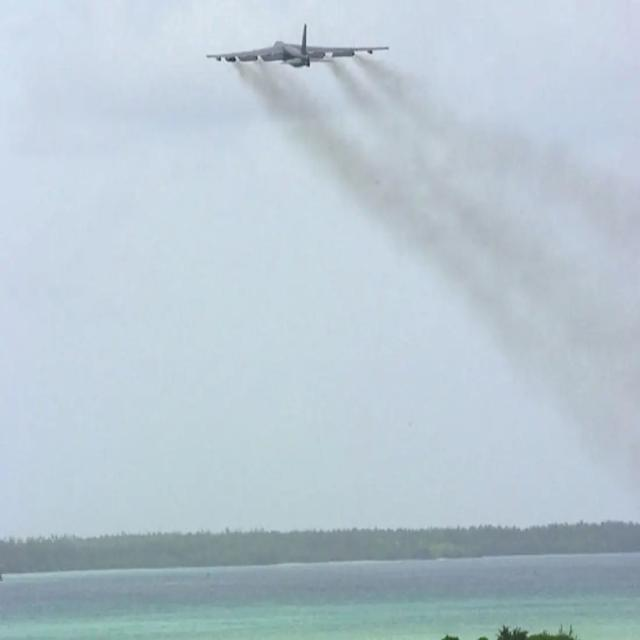MIL_Plane: (11, 23, 196, 69)
